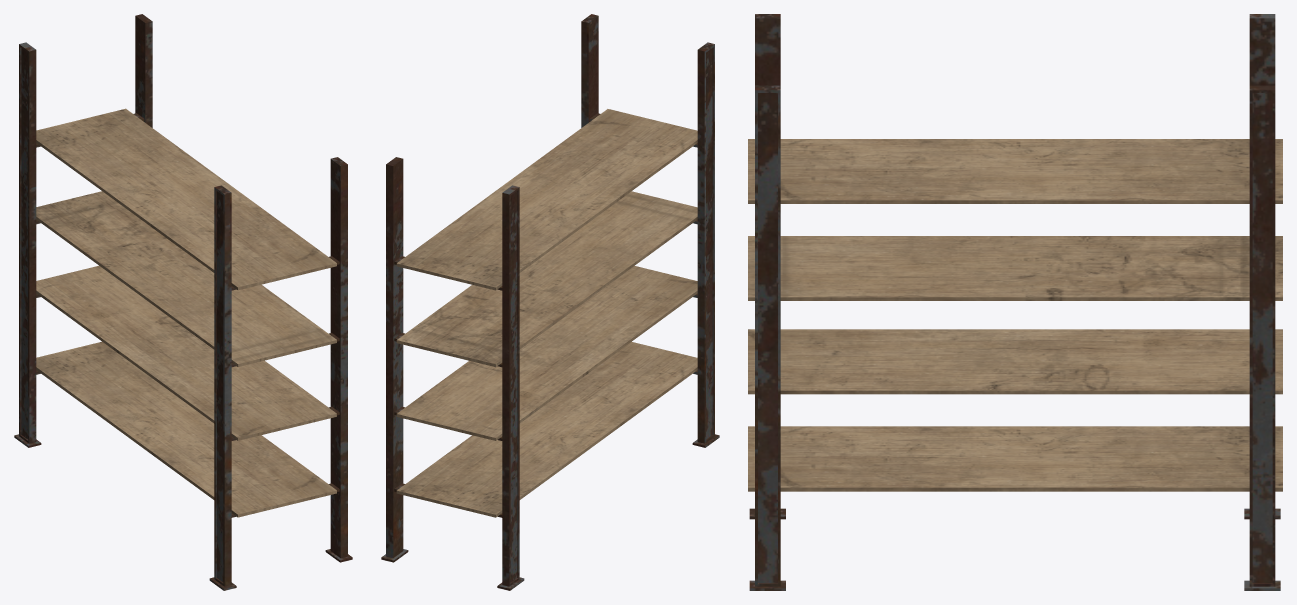
File: rack.FBX
3 views of the same model, side by side, from view 1: azimuth 30°, elevation 25°; view 2: azimuth 150°, elevation 25°; view 3: azimuth 270°, elevation 25° (orthographic). The views are drawn at different scales.
Visible parts, largest first — view 1: rack; view 2: rack; view 3: rack.
Boxes of the visible parts, left/top/right/bottom form: rack: left=14, top=14, right=352, bottom=590; rack: left=381, top=14, right=719, bottom=590; rack: left=748, top=14, right=1282, bottom=590.
Bounding box in the file's own units: 28.77 × 84.1 × 81.67.
